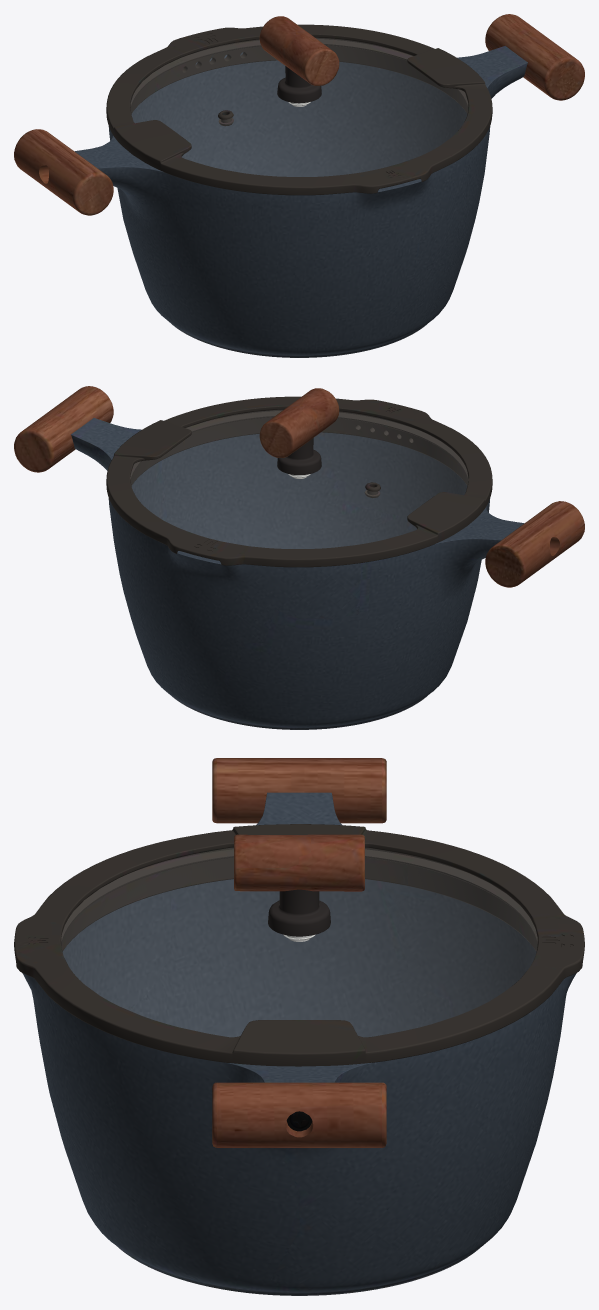
Rendered from klippfisk_garnek_z_pokrywka_90597482.glb.
3 renders of one model, top to bottom at view 1: azimuth 30°, elevation 25°; view 2: azimuth 150°, elevation 25°; view 3: azimuth 270°, elevation 25°, orthographic. The views are drawn at different scales.
Visible parts, largest first — view 1: klippfisk_garnek_z_pokrywka_90597482; view 2: klippfisk_garnek_z_pokrywka_90597482; view 3: klippfisk_garnek_z_pokrywka_90597482.
Part boxes in pixels (x1,y1,x2,y2): klippfisk_garnek_z_pokrywka_90597482: (14, 14, 584, 357); klippfisk_garnek_z_pokrywka_90597482: (14, 386, 584, 729); klippfisk_garnek_z_pokrywka_90597482: (14, 758, 584, 1295).
Size of the model in its own units: 0.3818 by 0.189 by 0.2617.
Materials: 2 (2 with a texture image).
